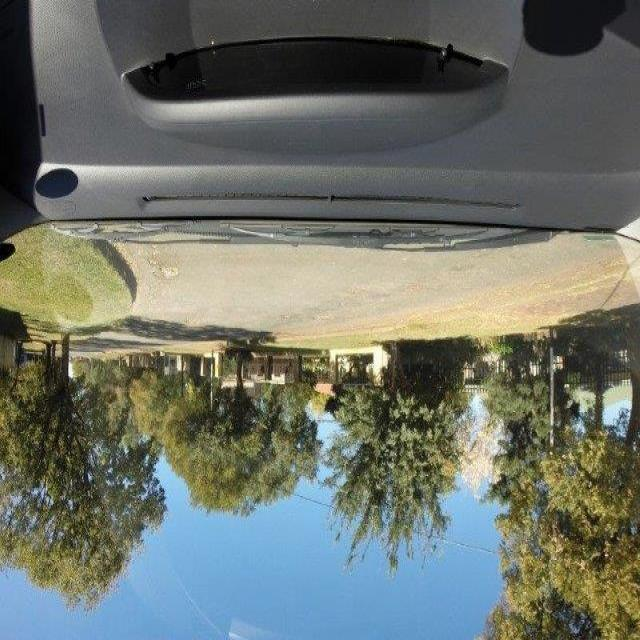lubang: (343, 284, 389, 304), (310, 308, 340, 328), (400, 279, 430, 297), (156, 263, 179, 285), (146, 245, 162, 272), (280, 308, 304, 323)
